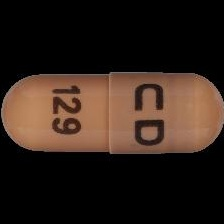55111-129: (0, 0, 224, 224)
